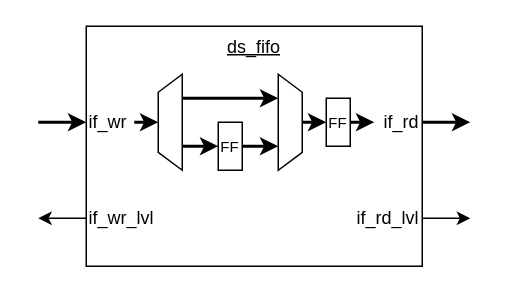
This 509x293 diagram has some shape labels left out. Each missing label, with the box of its shape:
DEMUX: (157, 73, 182, 170)
MUX: (277, 73, 302, 170)
